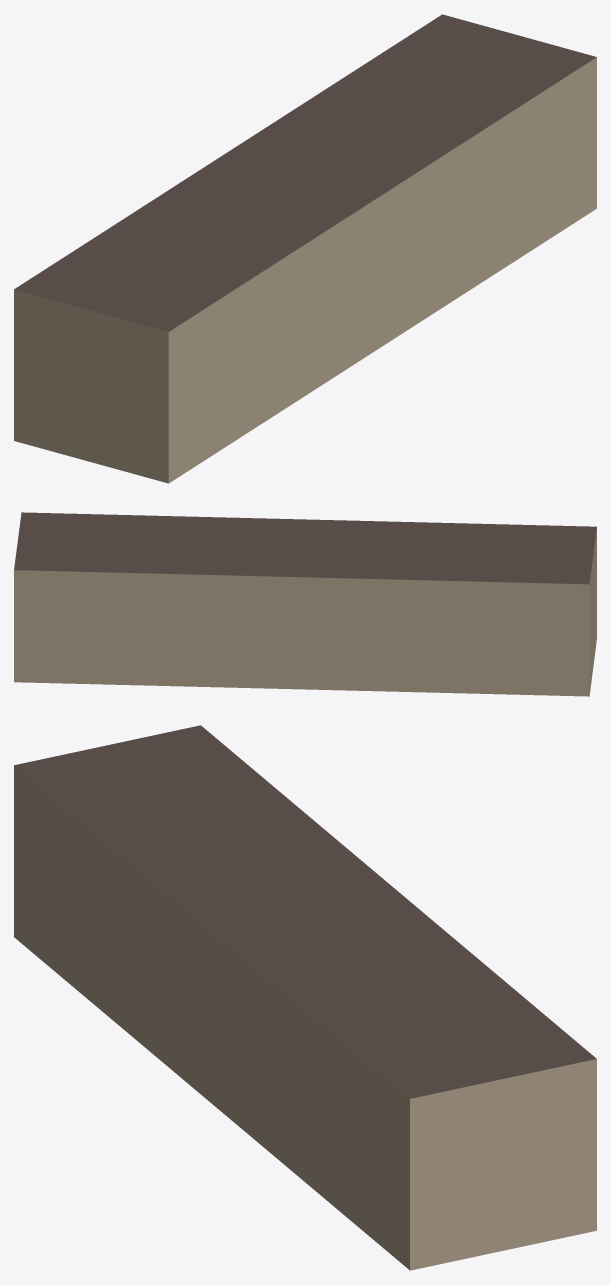
The picture shows the model from 3 angles, top to bottom: view 1: azimuth 30°, elevation 25°; view 2: azimuth 150°, elevation 25°; view 3: azimuth 270°, elevation 25°; orthographic projection. The views are drawn at different scales.
Visible parts, largest first — view 1: HP-w299011332; view 2: HP-w299011332; view 3: HP-w299011332.
Part boxes in pixels (x1,y1,x2,y2): HP-w299011332: (14,14,596,483); HP-w299011332: (14,512,596,696); HP-w299011332: (14,725,596,1270).
Bounding box in the file's own units: 41.96 × 9 × 27.67.
